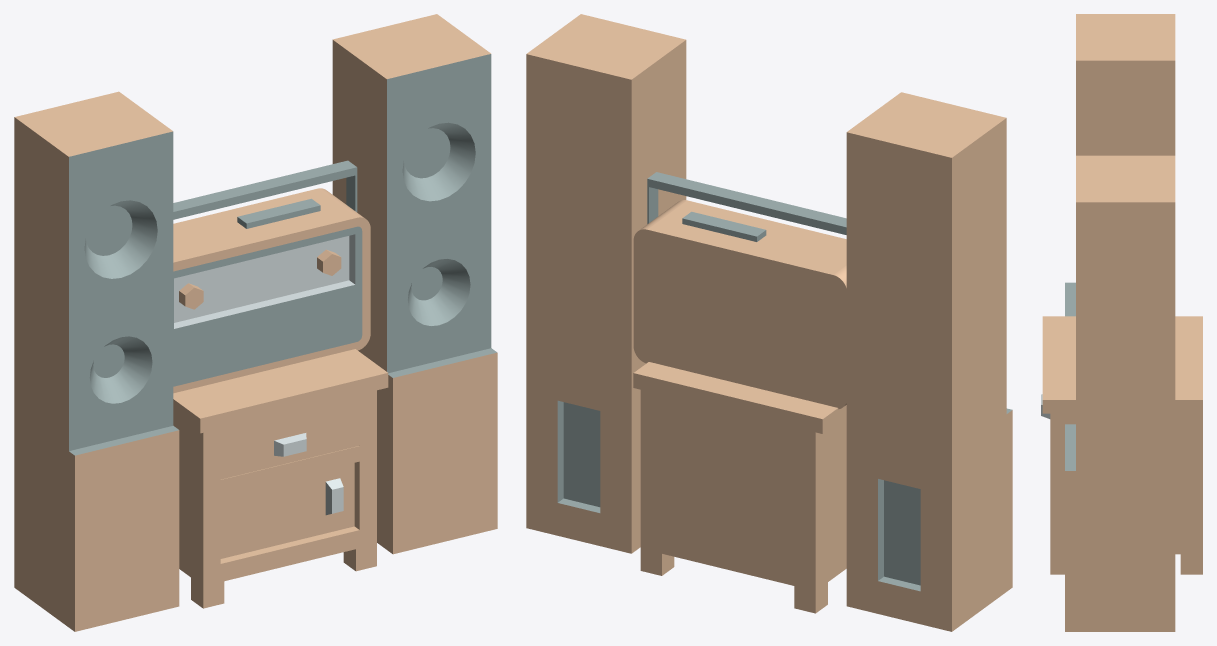
The model's file is stereo_tower.glb.
3 renders of one model, left to right at view 1: azimuth 30°, elevation 25°; view 2: azimuth 150°, elevation 25°; view 3: azimuth 270°, elevation 25°, orthographic. The views are drawn at different scales.
Parts seen in each view (by area): view 1: speaker(Clone) (×2), radio(Clone), cabinetBedDrawer(Clone), door, drawer; view 2: speaker(Clone) (×2), cabinetBedDrawer(Clone), radio(Clone); view 3: speaker(Clone) (×2), cabinetBedDrawer(Clone).
Boxes of the visible parts, <box> form: speaker(Clone) (×2): <box>14,14,497,631</box>; radio(Clone): <box>173,160,370,393</box>; cabinetBedDrawer(Clone): <box>173,349,388,608</box>; door: <box>220,463,354,558</box>; drawer: <box>220,409,359,479</box>; speaker(Clone) (×2): <box>526,14,1012,631</box>; cabinetBedDrawer(Clone): <box>633,362,846,613</box>; radio(Clone): <box>633,172,846,409</box>; speaker(Clone) (×2): <box>1065,14,1175,631</box>; cabinetBedDrawer(Clone): <box>1042,316,1202,574</box>.
Bounding box in the file's own units: 1.23 × 1.3 × 0.4455.
